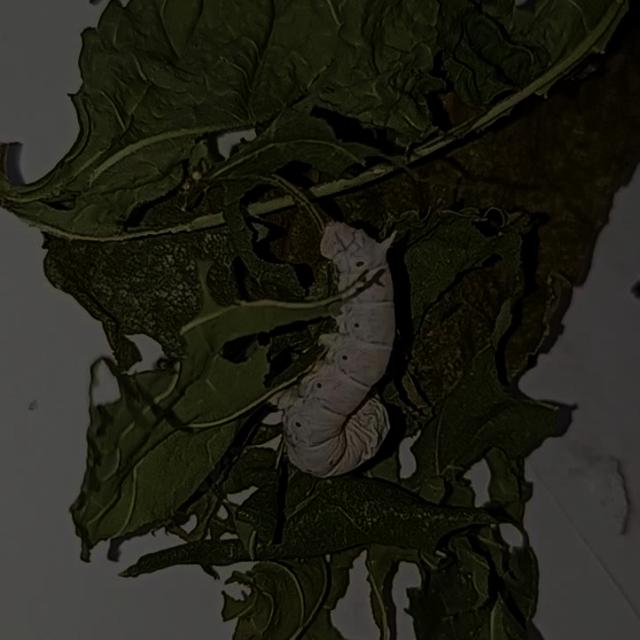Healthy: (260, 203, 467, 505)
